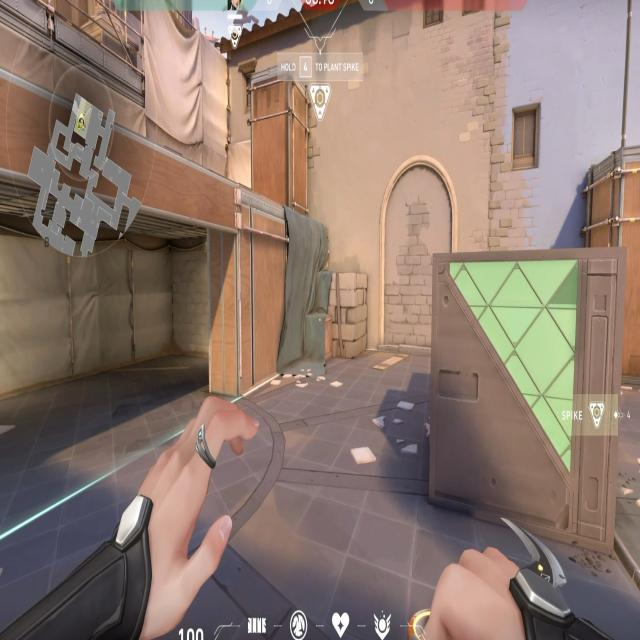A_Heaven_Box: (242, 59, 320, 223)
A_Hell: (3, 150, 253, 456)
